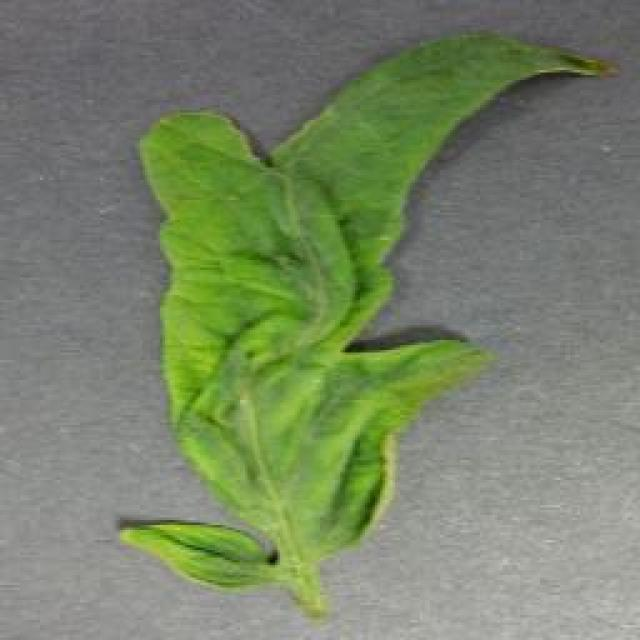Tomato yellow virus leaf: (135, 34, 600, 538), (115, 521, 273, 591)
